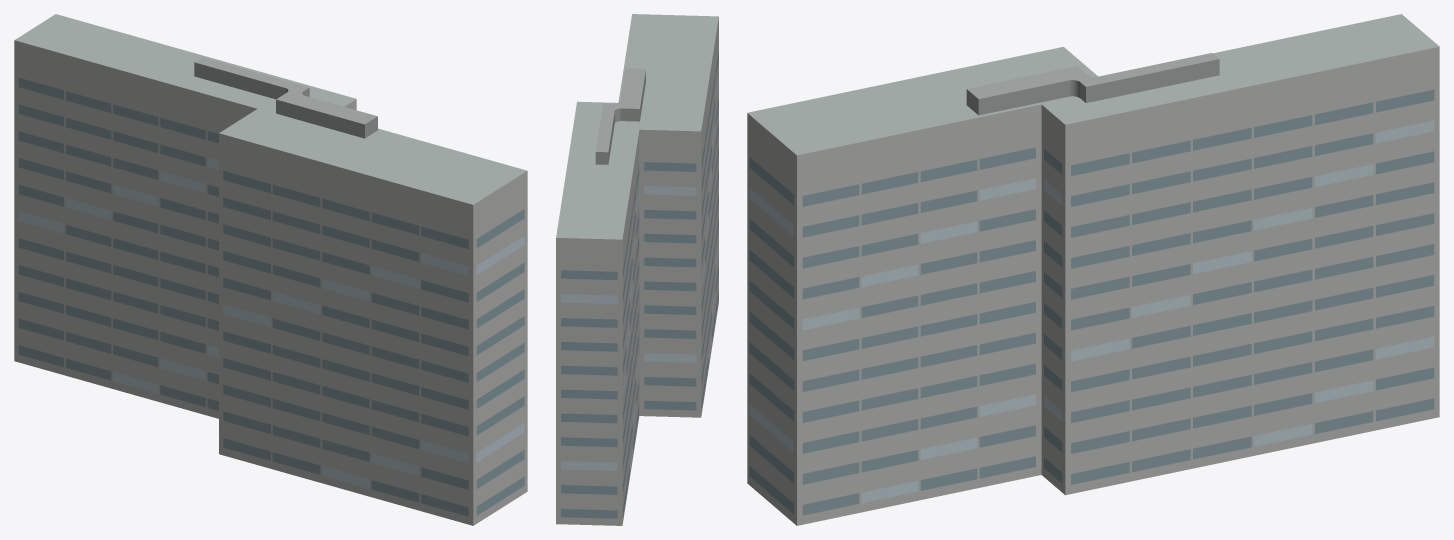
Rendered from apt-a13785004.glb.
3 views of the same model, side by side, from view 1: azimuth 30°, elevation 25°; view 2: azimuth 150°, elevation 25°; view 3: azimuth 270°, elevation 25° (orthographic). The views are drawn at different scales.
Parts seen in each view (by area): view 1: apt-a13785004; view 2: apt-a13785004; view 3: apt-a13785004.
Boxes of the visible parts, x1,y1,x2,y2 form: apt-a13785004: [14, 14, 527, 525]; apt-a13785004: [556, 14, 718, 525]; apt-a13785004: [747, 14, 1439, 525].
Size of the model in its own units: 44.71 by 57 by 92.51.
